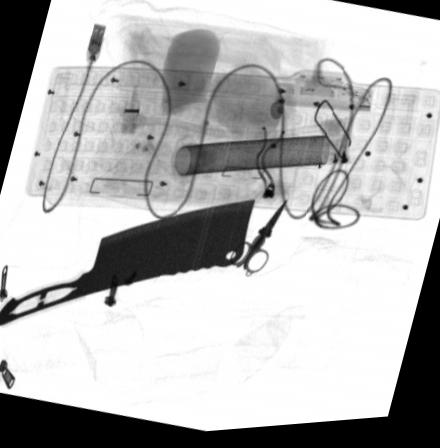Knife: (0, 203, 256, 325)
Scissors: (229, 204, 288, 279)
